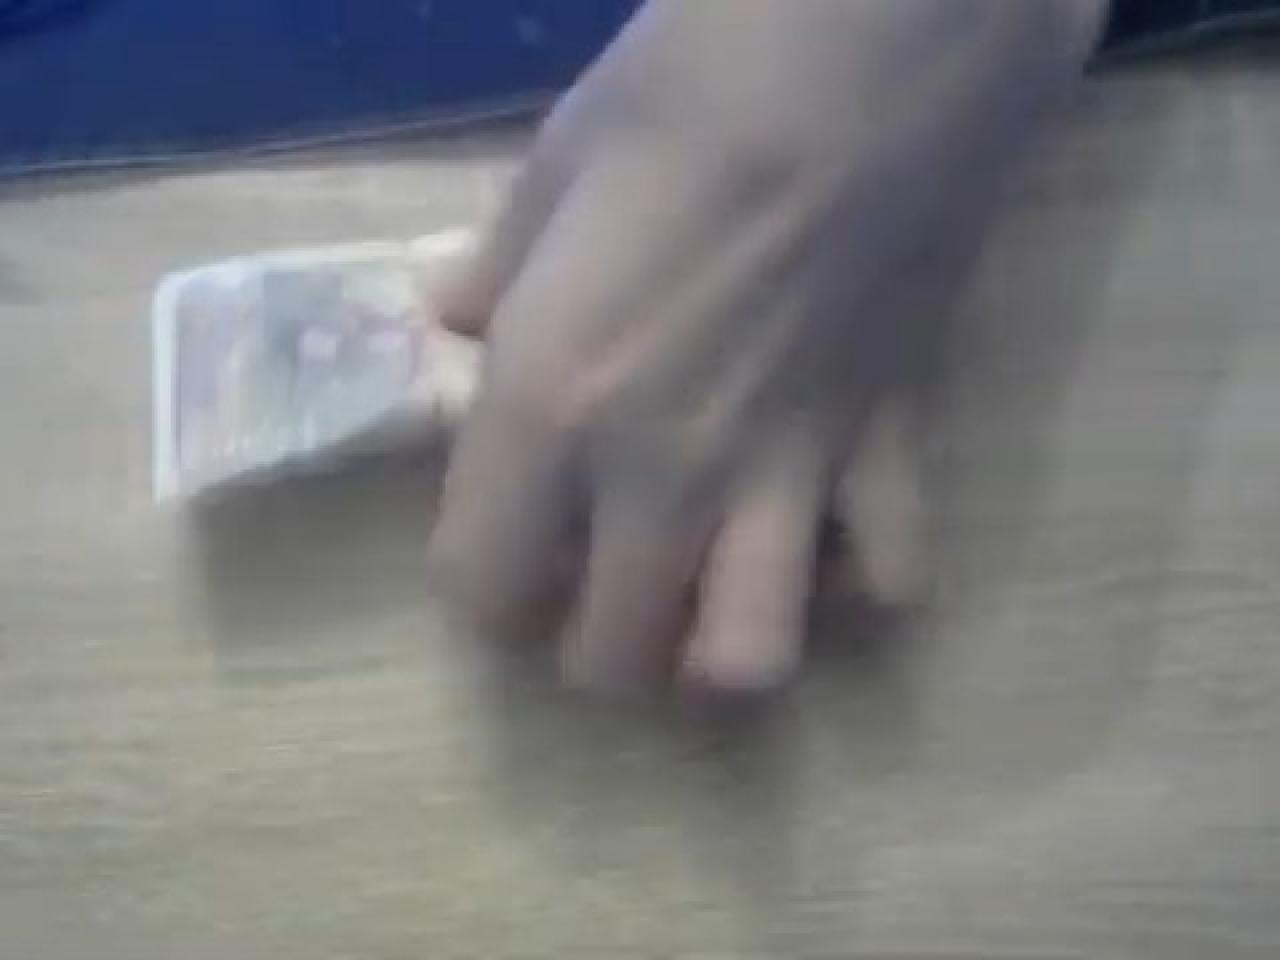10leva: (147, 240, 437, 506)
